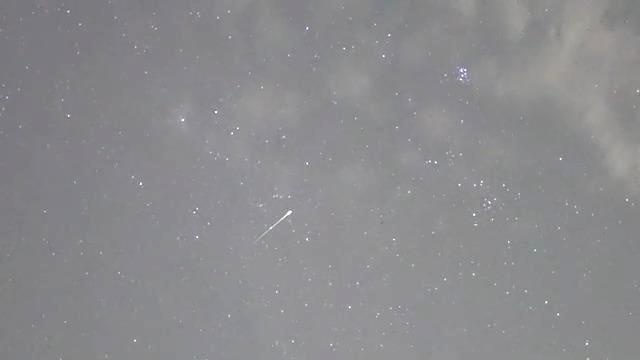meteorite: (236, 202, 316, 244)
